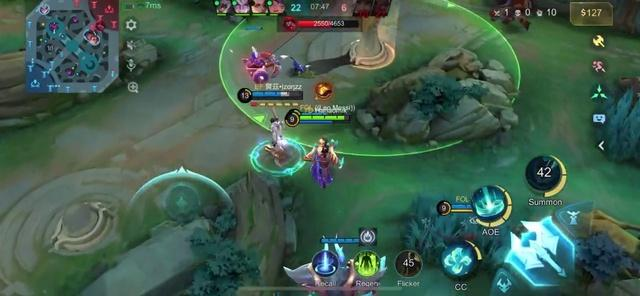Adc_Aliado: (90, 36, 100, 46)
Arbusto: (402, 196, 508, 266), (596, 83, 639, 163)
Esbirro_Aliado: (243, 46, 281, 83)
Exp_Aliado: (38, 4, 51, 16)
Granger: (265, 117, 287, 165)
HP_Aliado: (253, 91, 302, 98)
HP_Heroe_Principal: (299, 116, 350, 121)
Jungla_Aliado: (80, 27, 91, 38)
Lord_Vexana: (284, 244, 386, 294)
Mana: (300, 120, 352, 125)
Matilda: (307, 134, 345, 183)
Mid_Aliado: (85, 31, 96, 40)
Minimapa: (25, 0, 119, 95)
Pasiva_Granger: (250, 99, 301, 107)
Roamer_Enemigo: (94, 21, 108, 31)
Torre_Enemiga: (349, 4, 398, 69)
Torre_destruida: (43, 193, 120, 255)
Vexana: (299, 137, 344, 188)
